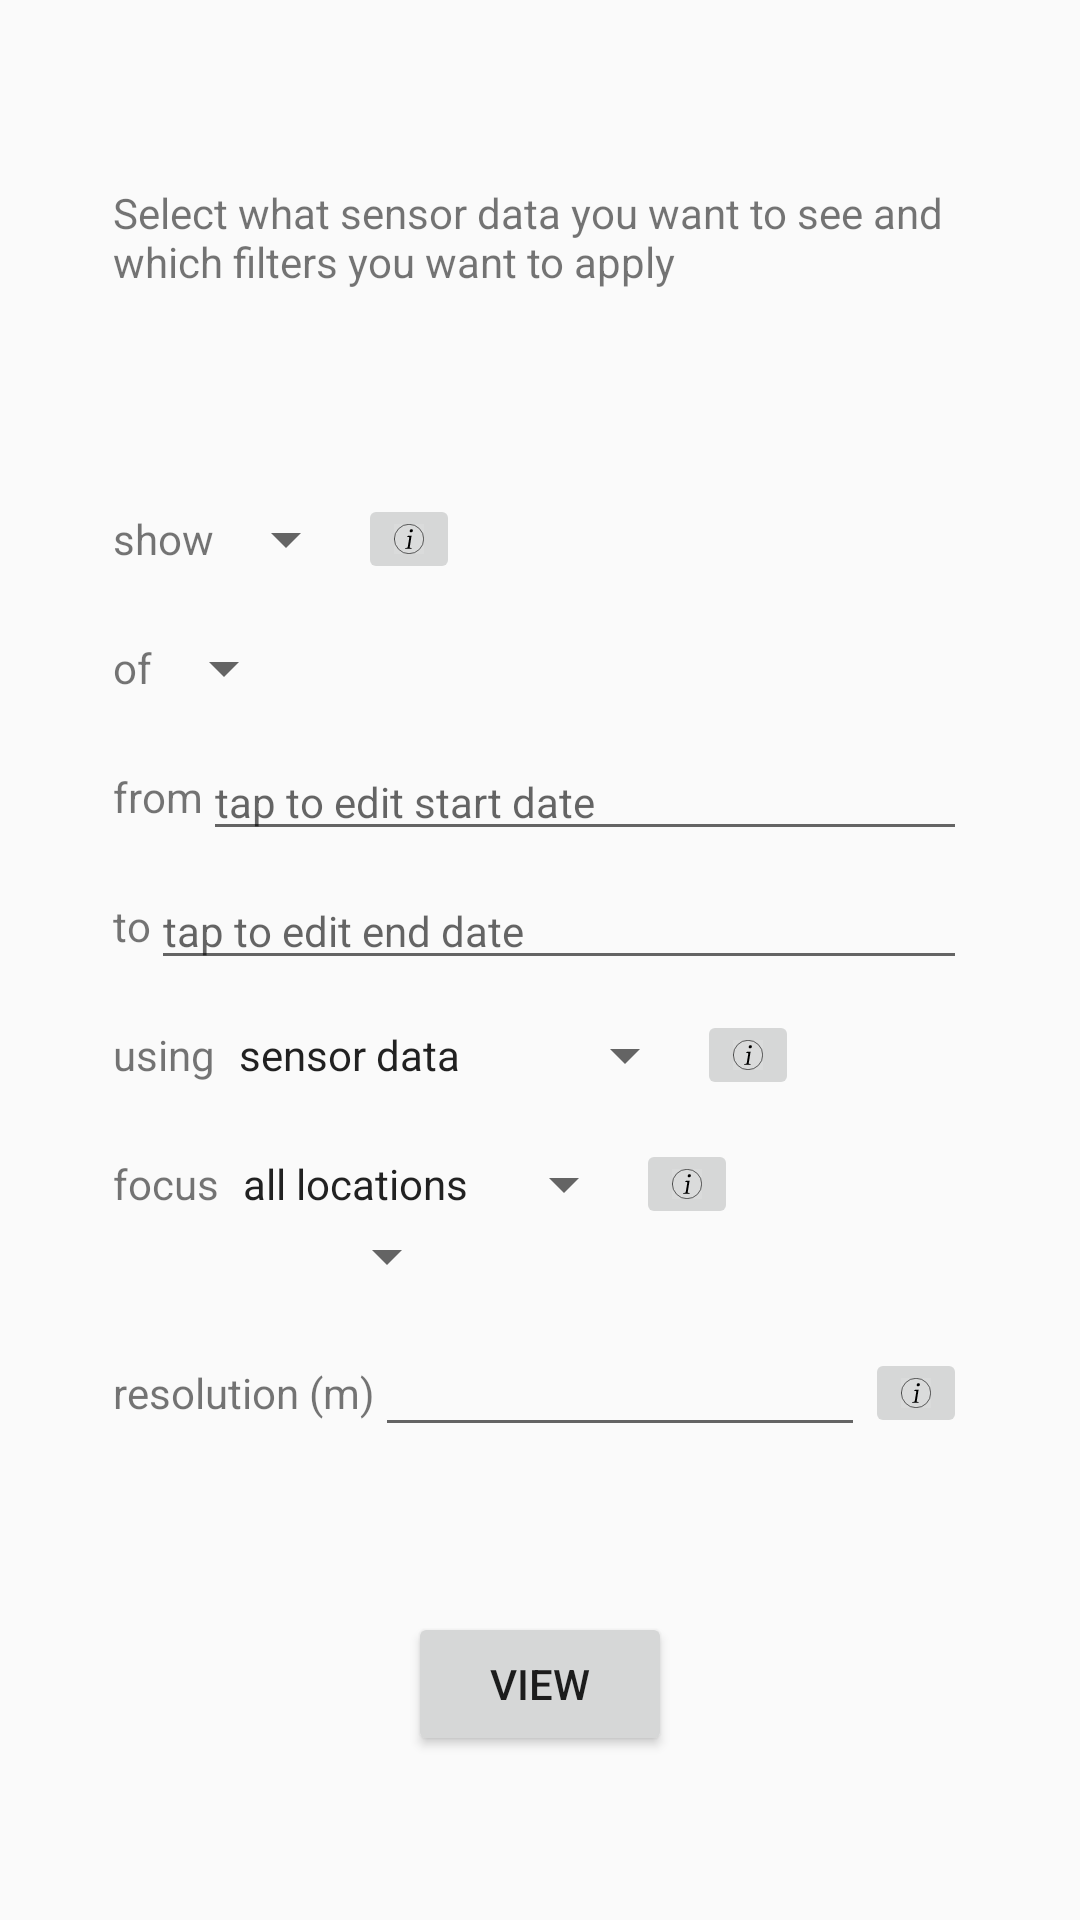

Icons on this 1080*1920 Android screen, each with the point to tap as point (x, y):
od info: point (409, 539), point (748, 1055), point (687, 1184), point (916, 1393)
